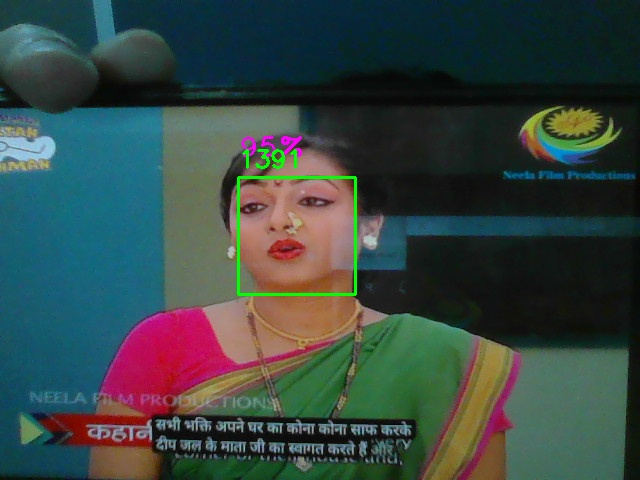fake: (238, 177, 356, 295)
